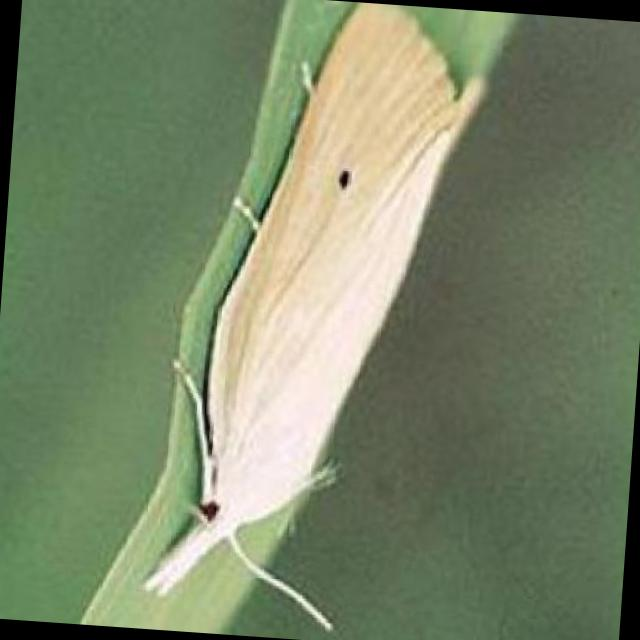stem-borer: (139, 0, 491, 637)
